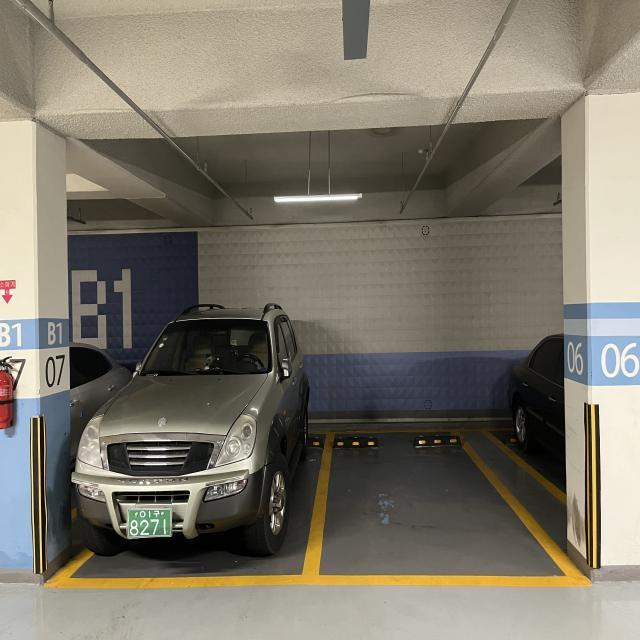Car: (62, 294, 310, 591)
Vacant: (315, 426, 580, 586)
